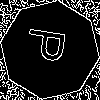P: (25, 25, 76, 66)
